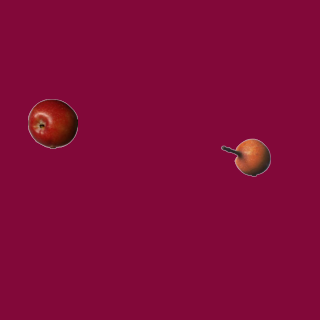Apple Braeburn: (27, 98, 77, 148)
Granadilla: (220, 132, 270, 182)
